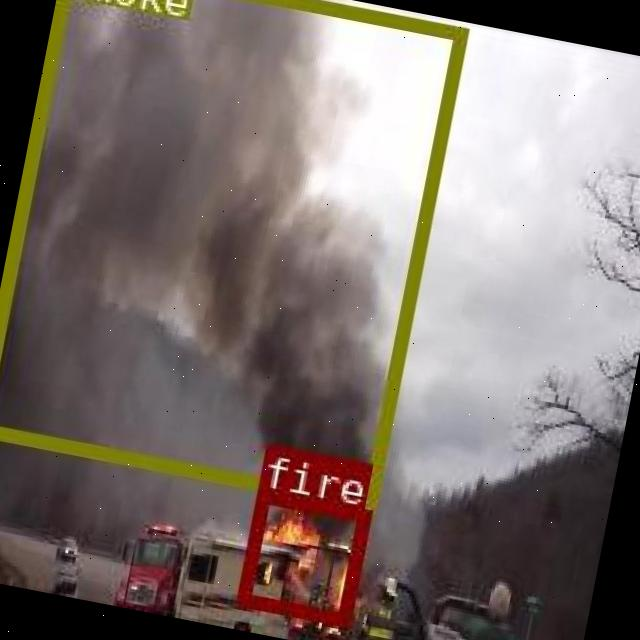fire: (234, 487, 370, 623)
smoke: (0, 0, 467, 509)
